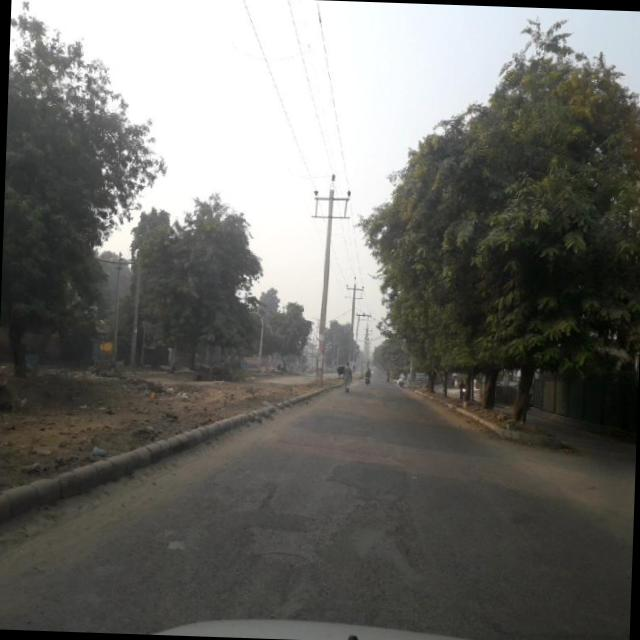pothole: (248, 544, 316, 564)
